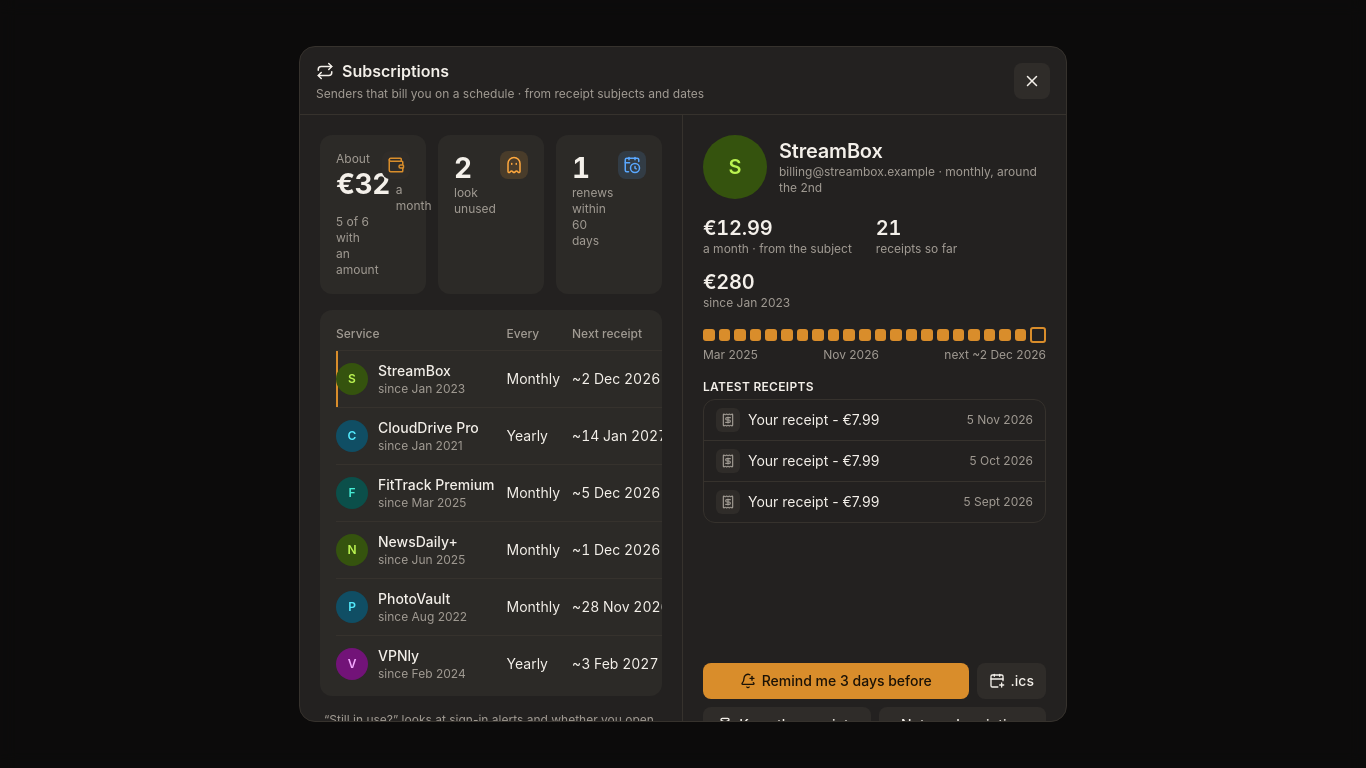
Test: a service in use has no notice; one without a price offers to find it
Expected: the text "€32" is shown, [336,167,390,201]
Expected: the text "Looks unused." is not shown
Click the button "N NewsDaily+ since Jun 2025" at (401, 550), box [336,532,465,568]
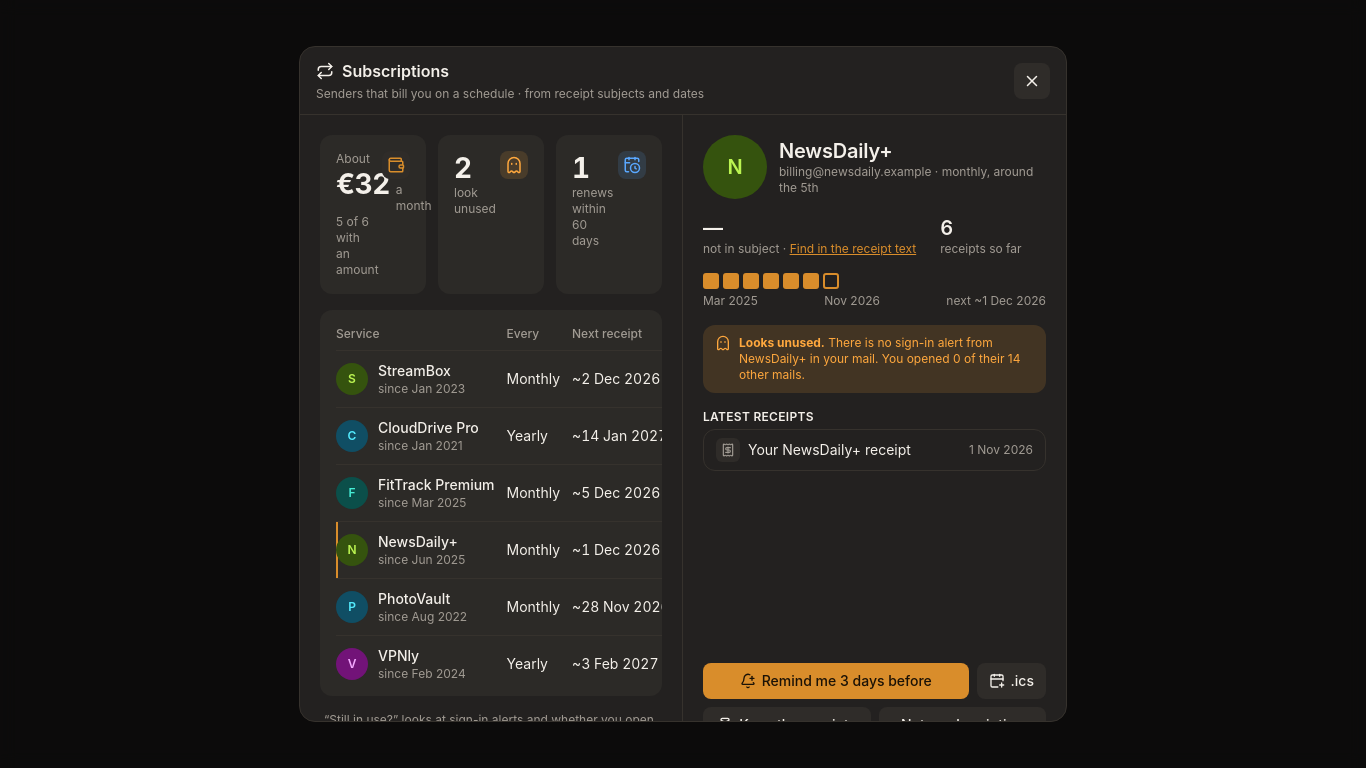
Result: the text "—" is shown at [703,216,723,240]
Result: the text "not in subject · Find in the receipt text" is shown at [703,241,916,257]
Result: the button "Find in the receipt text" is shown at [790,241,916,257]
